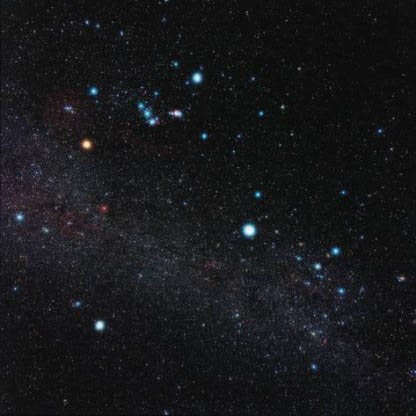Orion: (195, 126, 215, 149), (84, 83, 103, 104), (78, 135, 94, 156), (187, 66, 202, 88), (148, 118, 161, 130), (133, 98, 144, 109), (140, 109, 150, 116)
